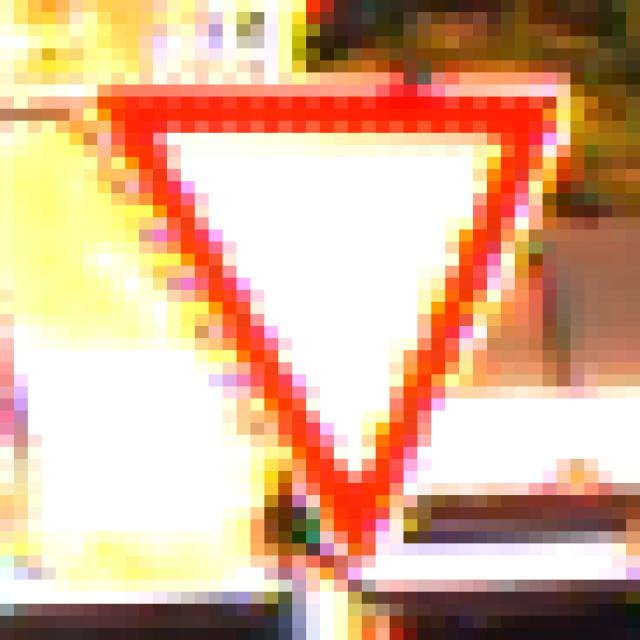Give Way: (71, 62, 558, 569)
